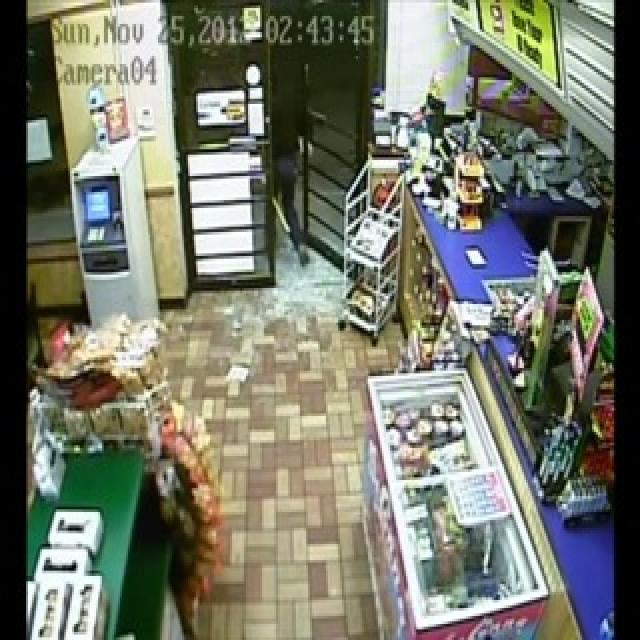thief: (259, 58, 306, 288)
